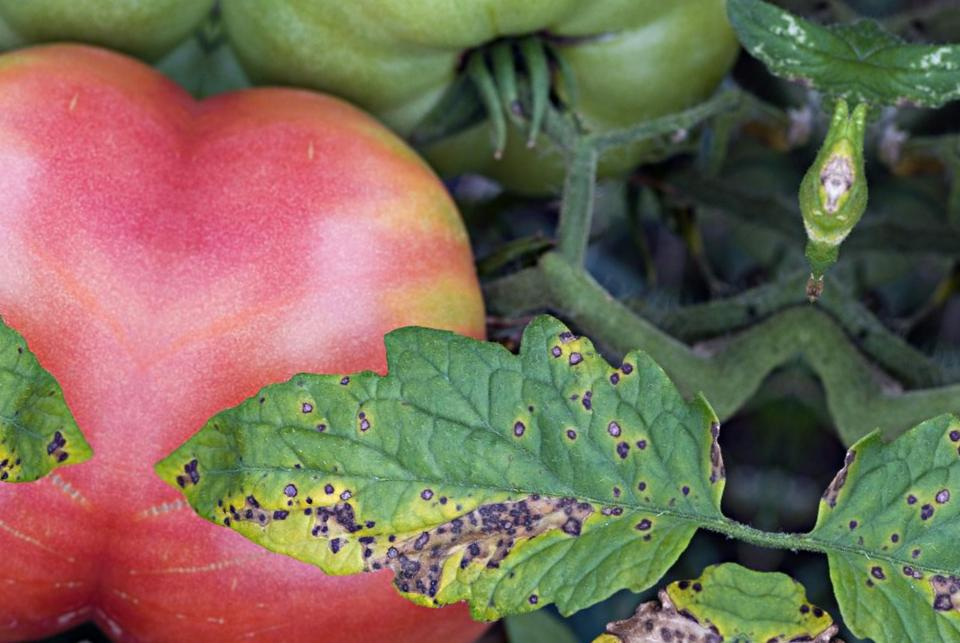Tomato Septoria leaf spot: (143, 272, 753, 643), (539, 535, 754, 643)
